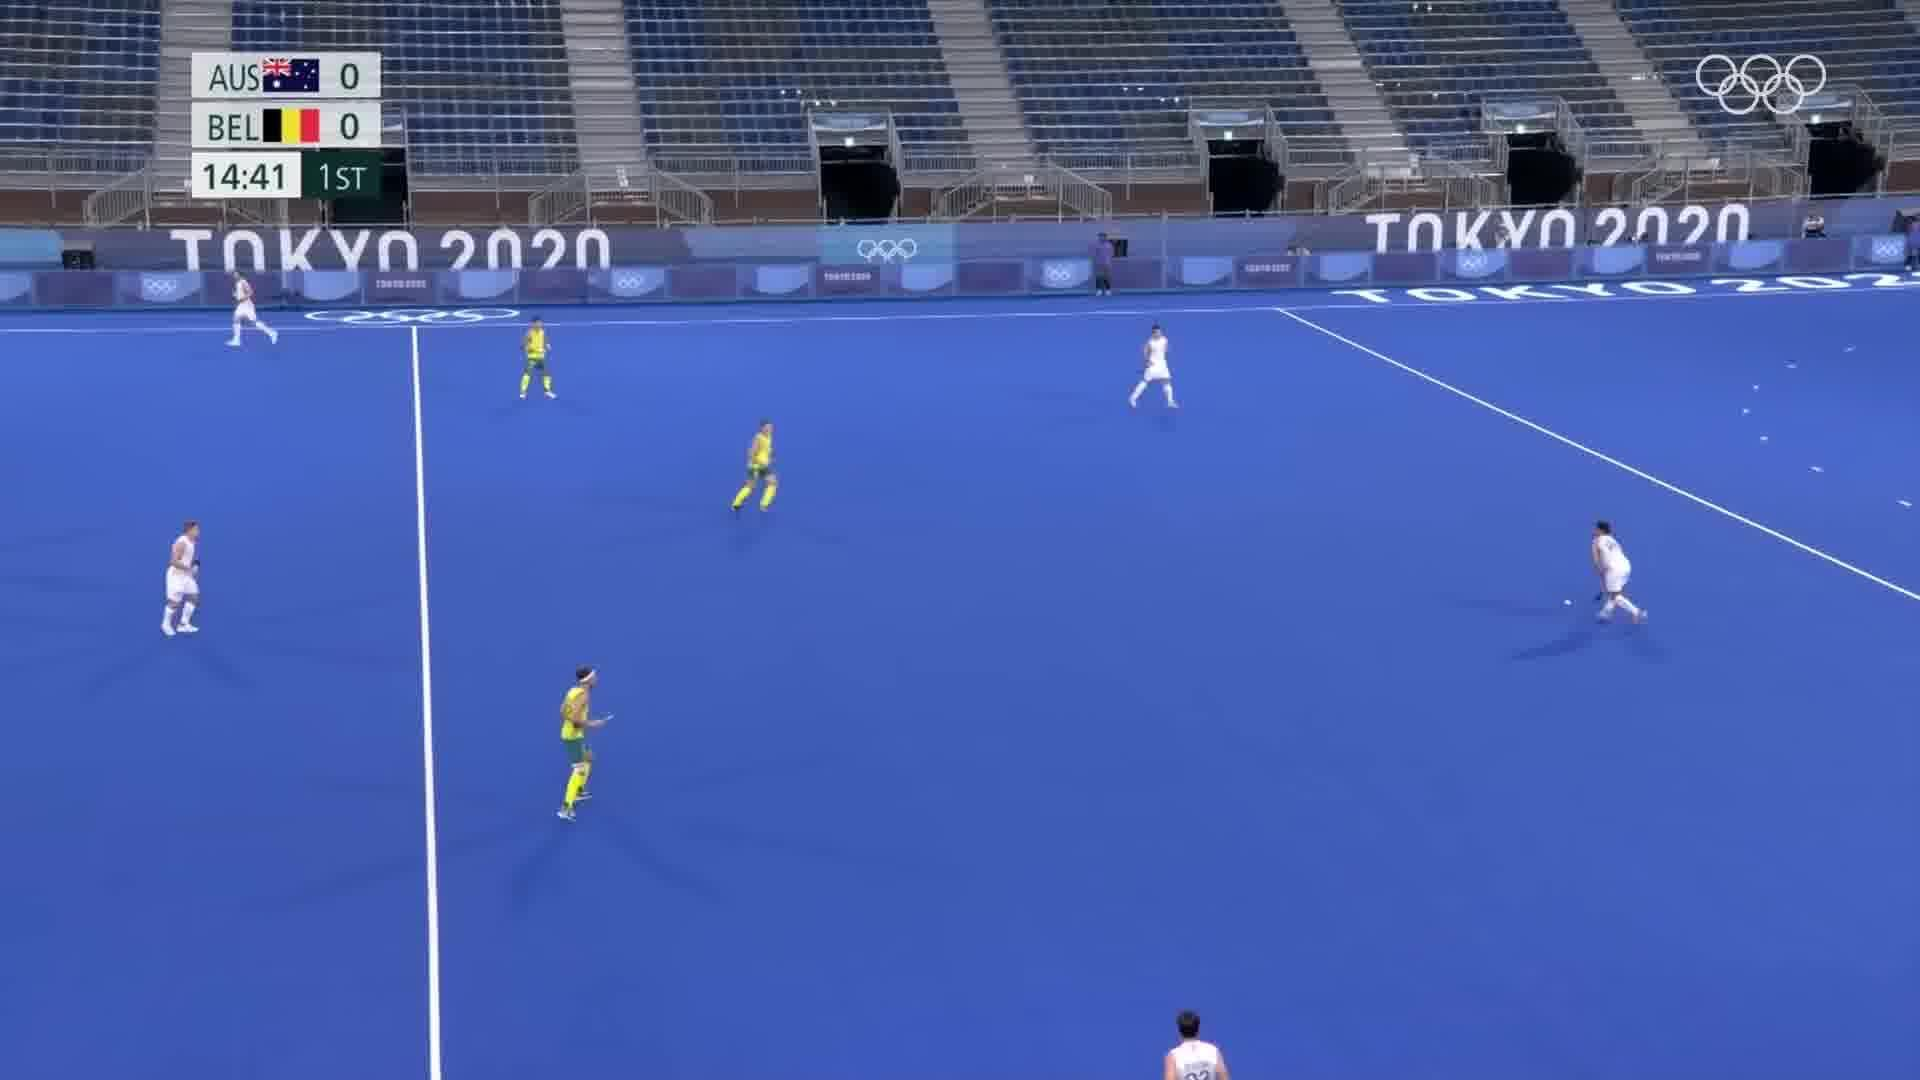ball: (1549, 580, 1589, 622)
